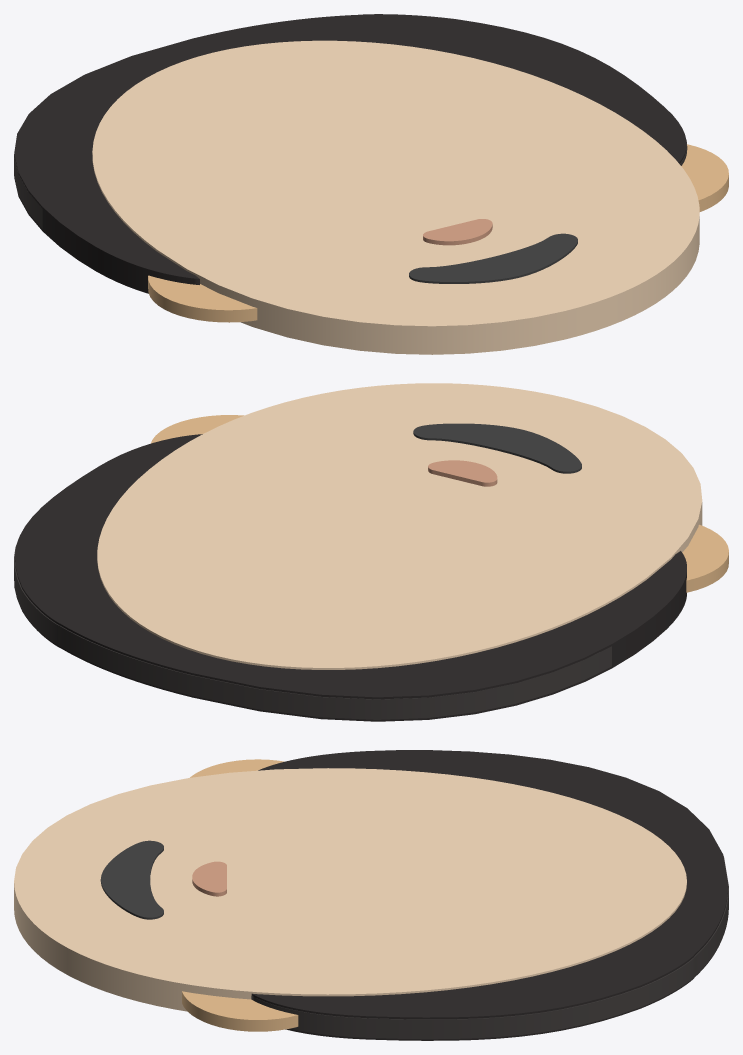
Rendered from emoji_u1f466_1f3fb.glb.
3 views of the same model, one above another, from view 1: azimuth 30°, elevation 25°; view 2: azimuth 150°, elevation 25°; view 3: azimuth 270°, elevation 25° (orthographic). The views are drawn at different scales.
Parts seen in each view (by area): view 1: emoji_u1f466_1f3fb; view 2: emoji_u1f466_1f3fb; view 3: emoji_u1f466_1f3fb.
Boxes of the visible parts, <box> form: emoji_u1f466_1f3fb: <box>14,14,728,354</box>; emoji_u1f466_1f3fb: <box>14,383,728,721</box>; emoji_u1f466_1f3fb: <box>14,750,728,1040</box>.
Size of the model in its own units: 0.0295 by 0.0018 by 0.0333.
